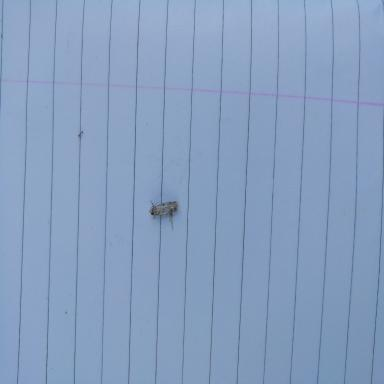pbw: (148, 200, 179, 231)
